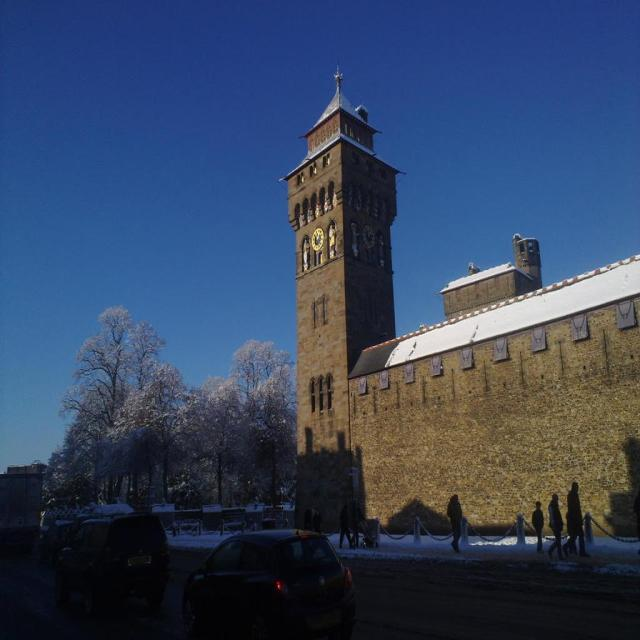car: (174, 526, 362, 629), (58, 506, 174, 591)
